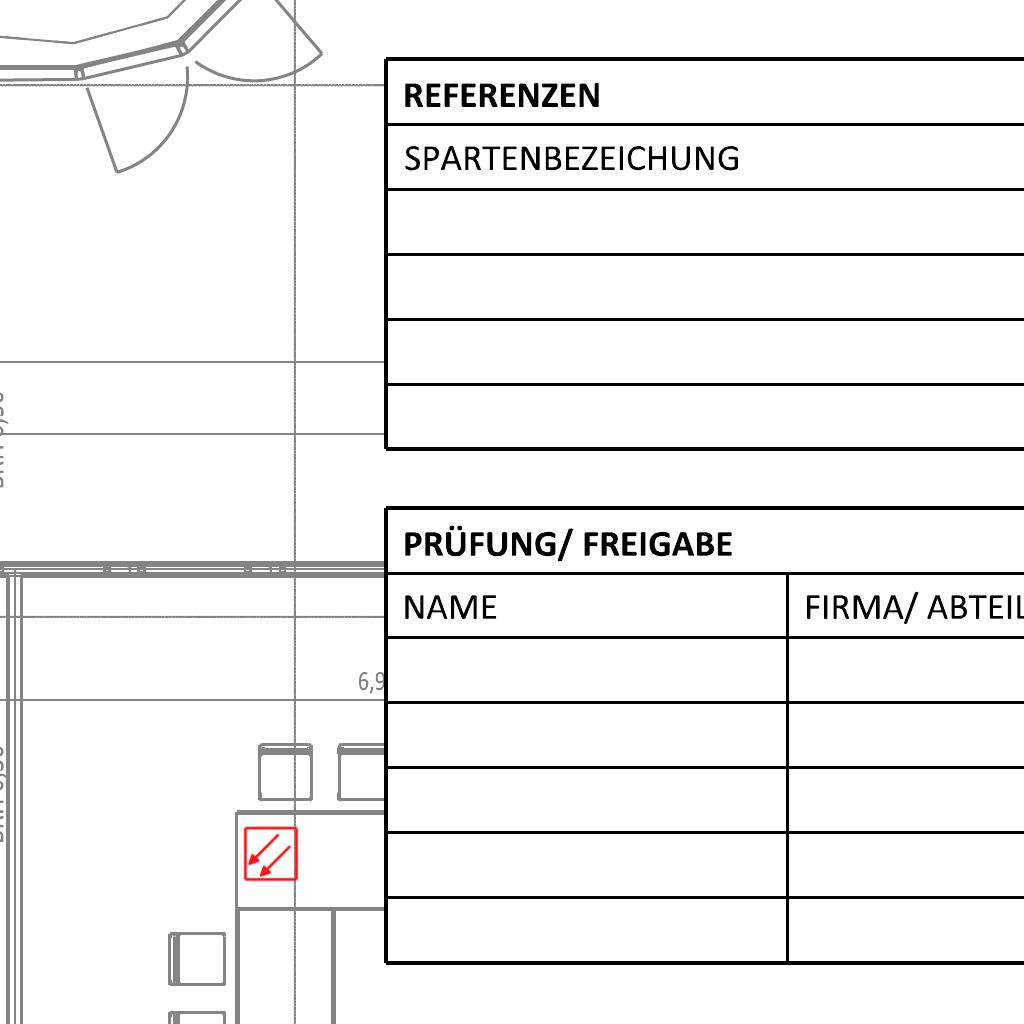RMO_Rauchmelder_optischer: (243, 826, 299, 882)
